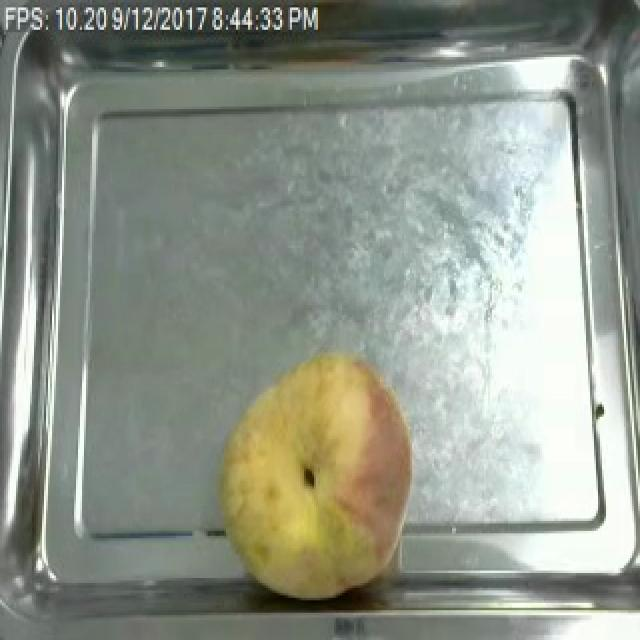Fruit: (204, 340, 422, 608)
